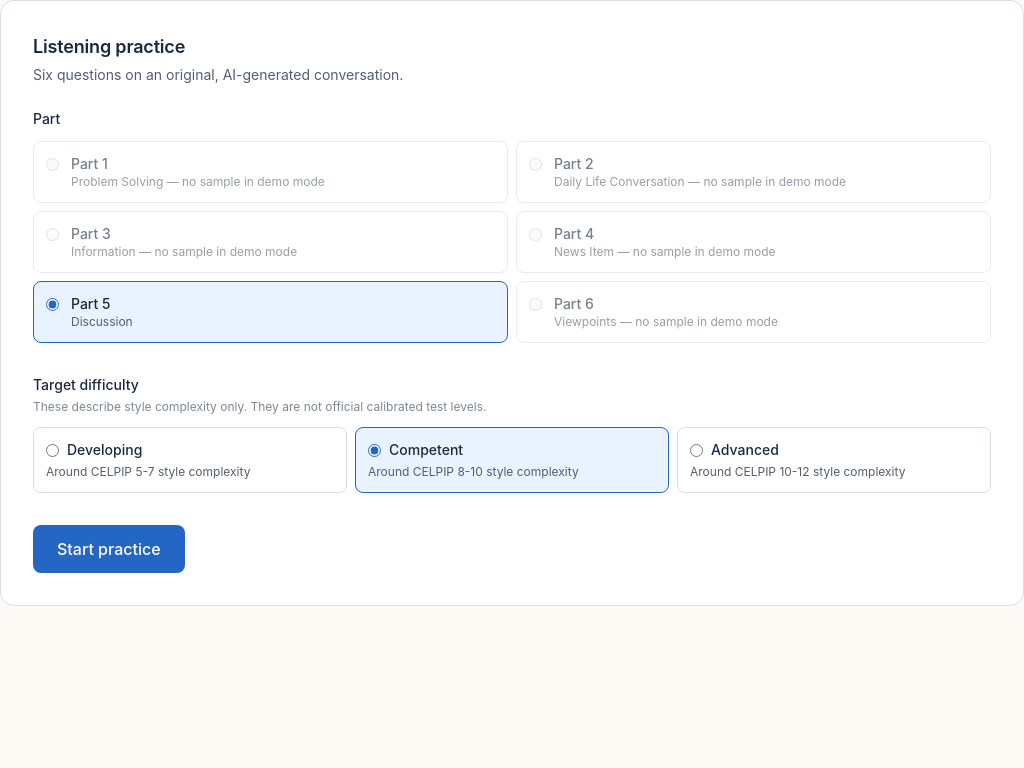
Test: ListeningPage › offers a retry when the provider fails transiently
Click the button "Start practice" at {"x": 109, "y": 549}, box left=33, top=525, right=185, bottom=573
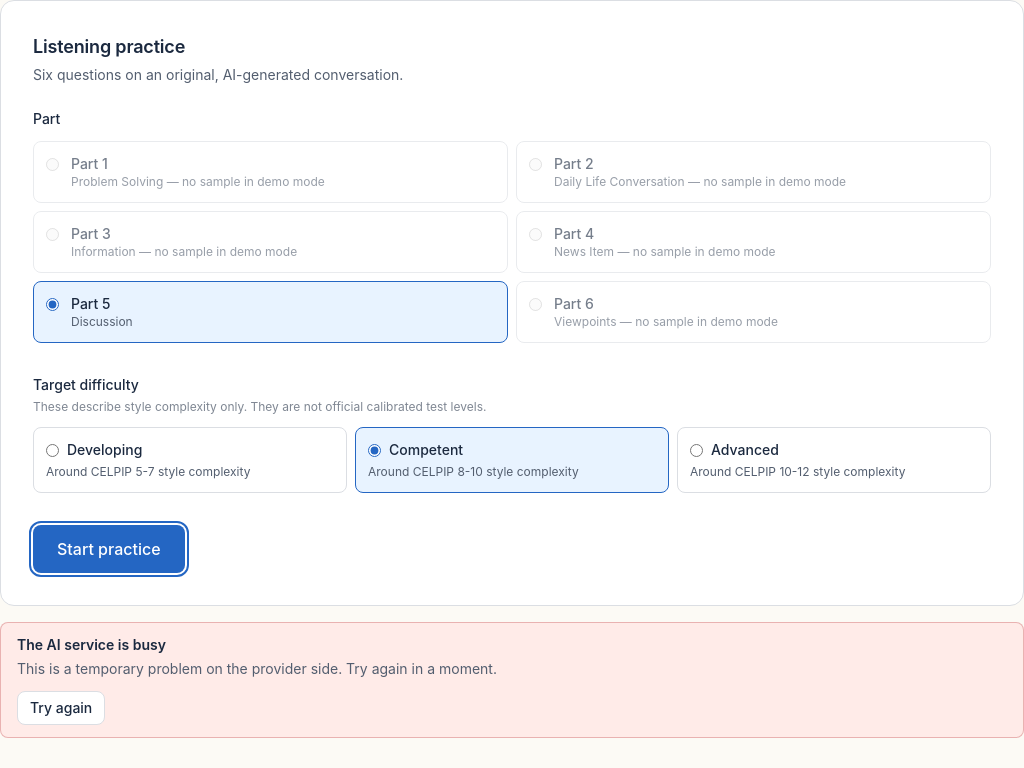
Check: the text "The AI service is busy" is shown, box left=17, top=636, right=166, bottom=653
Check: the button "Try again" is shown, box left=17, top=691, right=105, bottom=725
